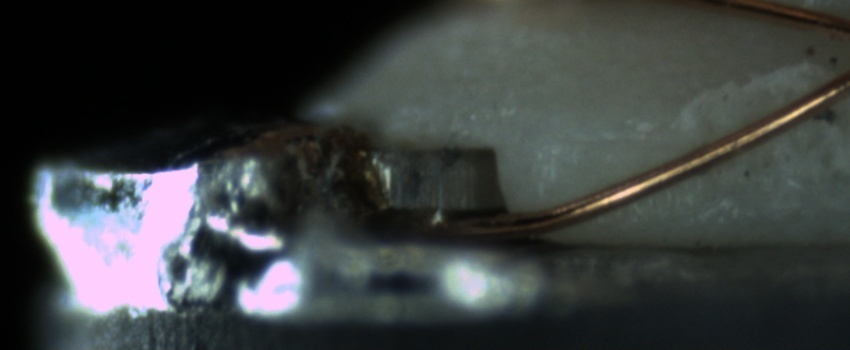DL: (537, 113, 685, 174)
